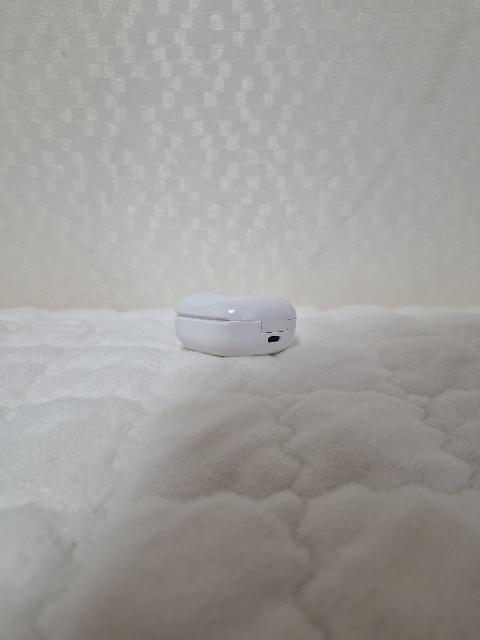earphone_case: (175, 292, 297, 357)
